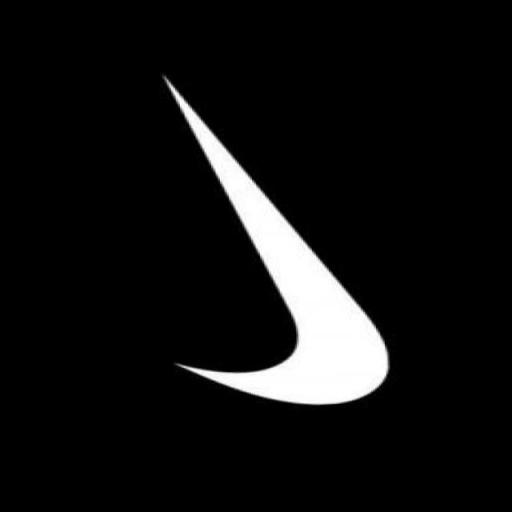Nike: (154, 59, 392, 418)
